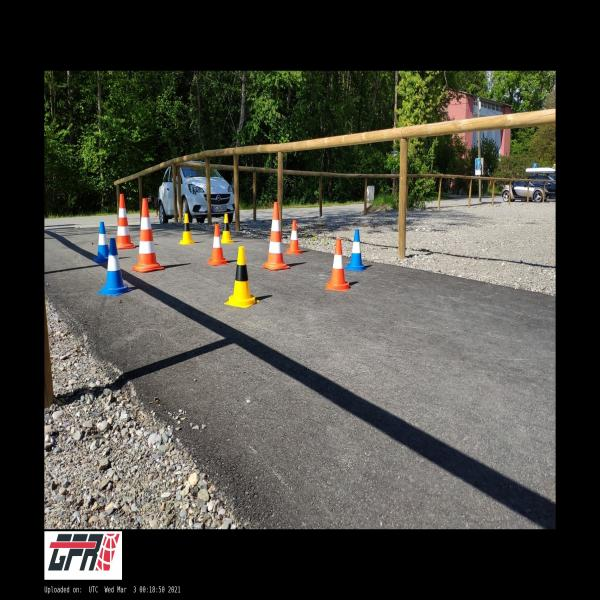blue_cone: (97, 238, 133, 296), (344, 229, 368, 272), (94, 222, 109, 262)
large_orange_cone: (132, 199, 164, 272), (262, 202, 290, 270), (115, 194, 136, 249)
orange_cone: (325, 240, 351, 291), (207, 224, 229, 266), (286, 220, 302, 254)
yellow_cone: (224, 246, 259, 308), (179, 214, 196, 244), (221, 214, 235, 244)
